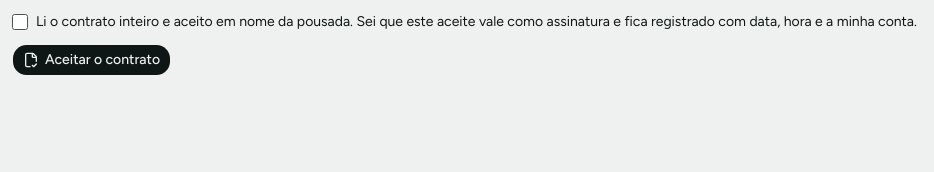
Scenario: ContractAcceptForm › mostra a recusa do servidor e não recarrega
This screenshot has width=934, height=172.
Click the checkbox.
click(20, 22)  # box [12,14,28,30]
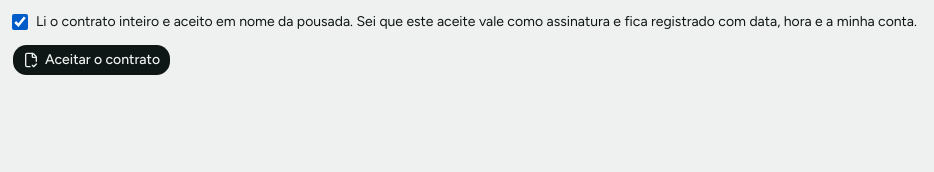
Click the button "Aceitar o contrato".
click(92, 60)  # box [12,44,171,76]
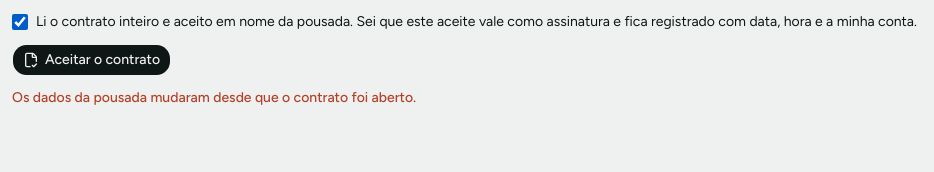
Expected: the message shows "dados da pousada mudaram", [12,89,416,106]
